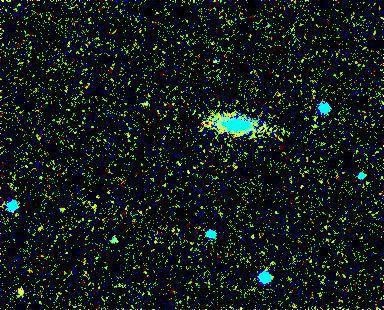star: (6, 277, 36, 307)
